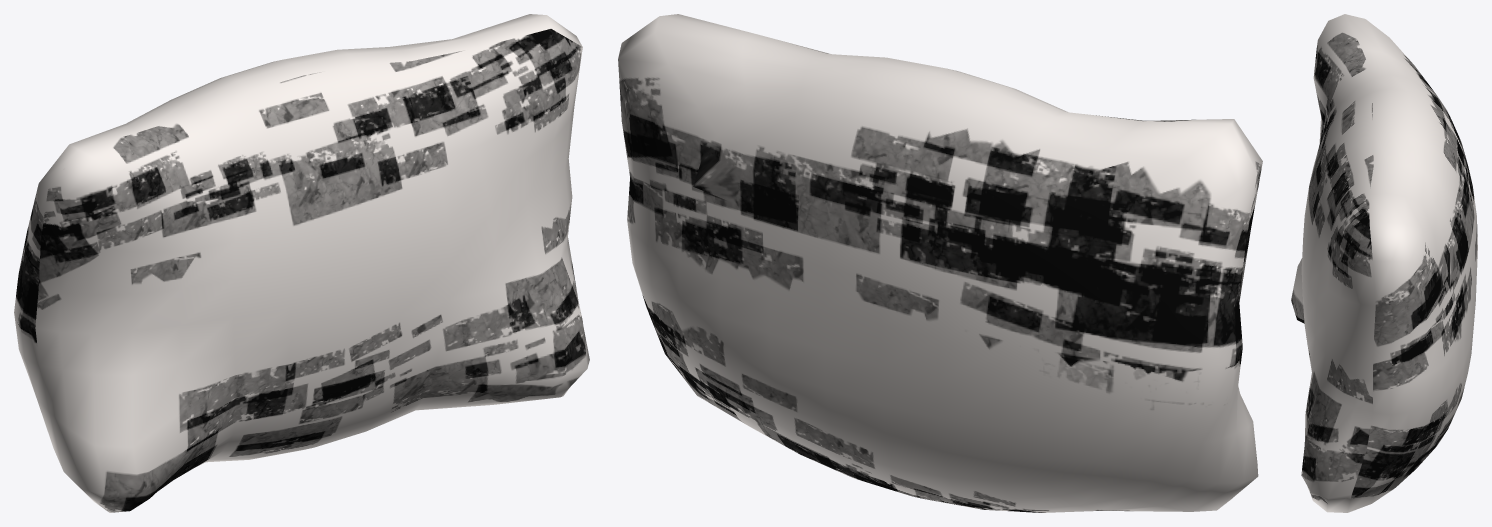
Rendered from pillow01.fbx.
The picture shows the model from 3 angles, left to right: view 1: azimuth 30°, elevation 25°; view 2: azimuth 150°, elevation 25°; view 3: azimuth 270°, elevation 25°; orthographic projection. The views are drawn at different scales.
Visible parts, largest first — view 1: pCube4; view 2: pCube4; view 3: pCube4.
Part boxes in pixels (left/top/right/bottom): pCube4: left=14, top=14, right=589, bottom=512; pCube4: left=618, top=14, right=1262, bottom=512; pCube4: left=1291, top=14, right=1477, bottom=512.
Size of the model in its own units: 77.32 by 50.57 by 26.44.
Materials: 1 (1 with a texture image).
